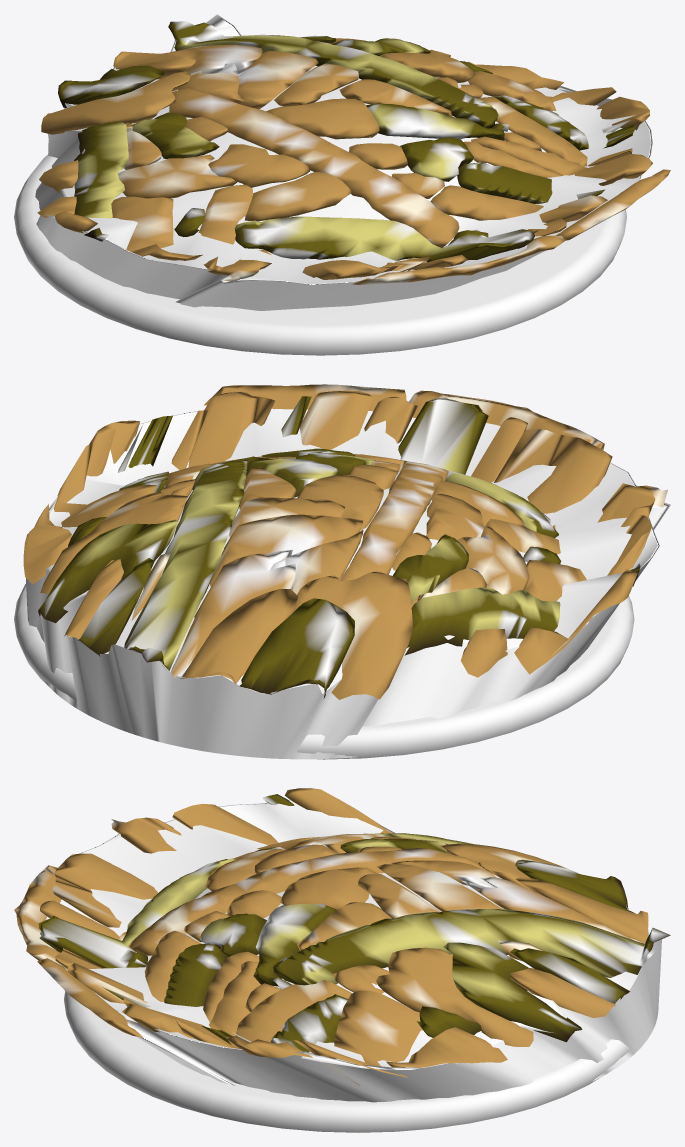
Rendered from SM_D04_wok.fbx.
The picture shows the model from 3 angles, top to bottom: view 1: azimuth 30°, elevation 25°; view 2: azimuth 150°, elevation 25°; view 3: azimuth 270°, elevation 25°; orthographic projection. The views are drawn at different scales.
Visible parts, largest first — view 1: SM_D04_wok; view 2: SM_D04_wok; view 3: SM_D04_wok.
Part boxes in pixels (left/top/right/bottom): SM_D04_wok: left=14, top=14, right=670, bottom=355; SM_D04_wok: left=14, top=384, right=670, bottom=759; SM_D04_wok: left=14, top=788, right=670, bottom=1132.
Size of the model in its own units: 0.1475 by 0.0334 by 0.1581.
